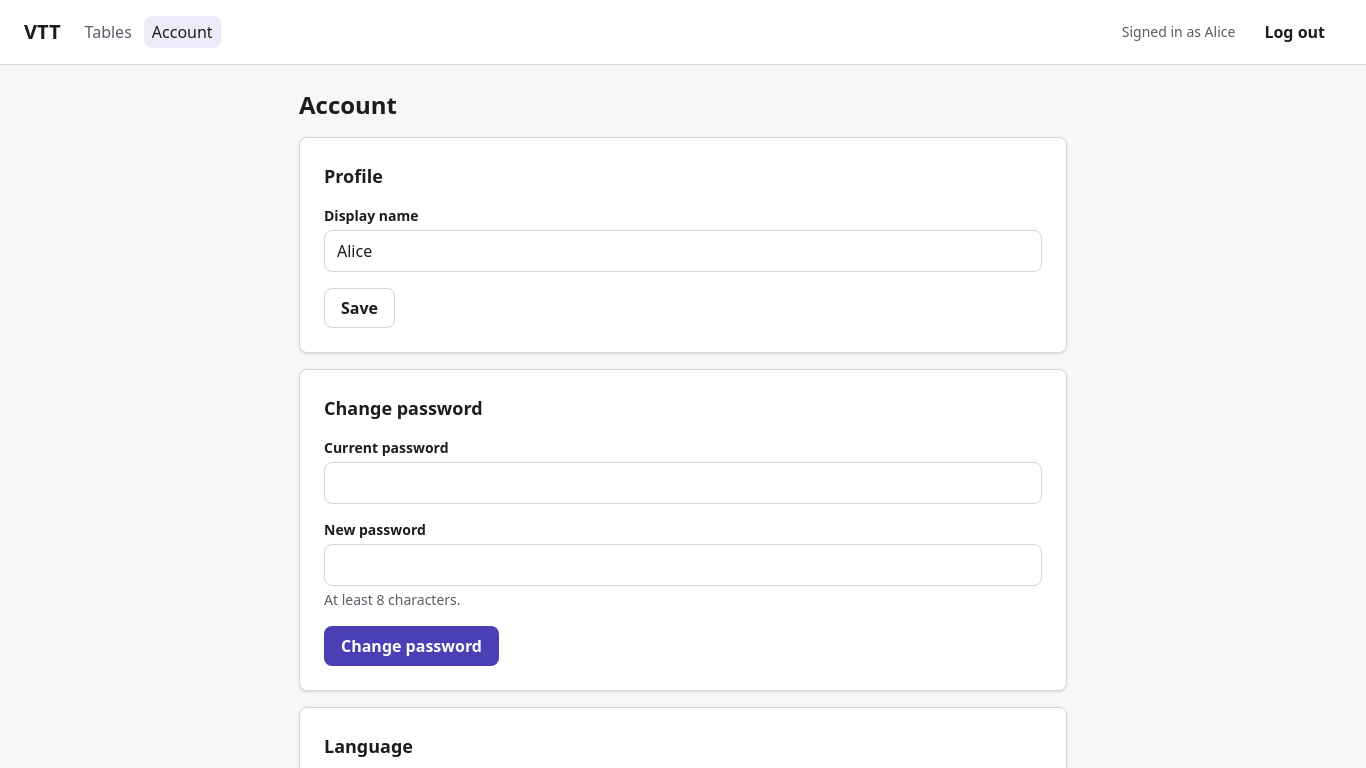
Test: account (FR-AUTH-05) › saves the display name
Replace the text in the field labelled "Display name" with "Al": (683, 251) 324,230 -> 1042,272
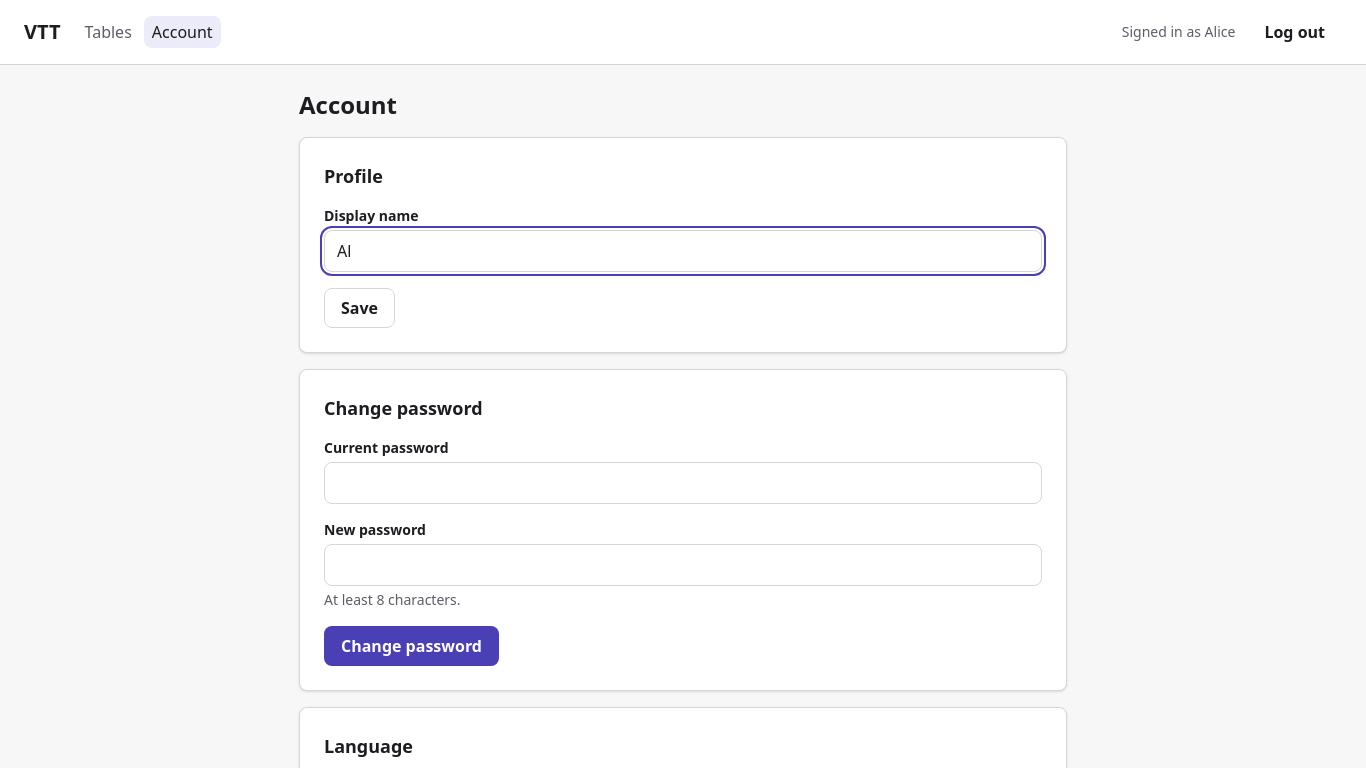
Click the button "Save": (360, 308) 324,288 -> 395,328
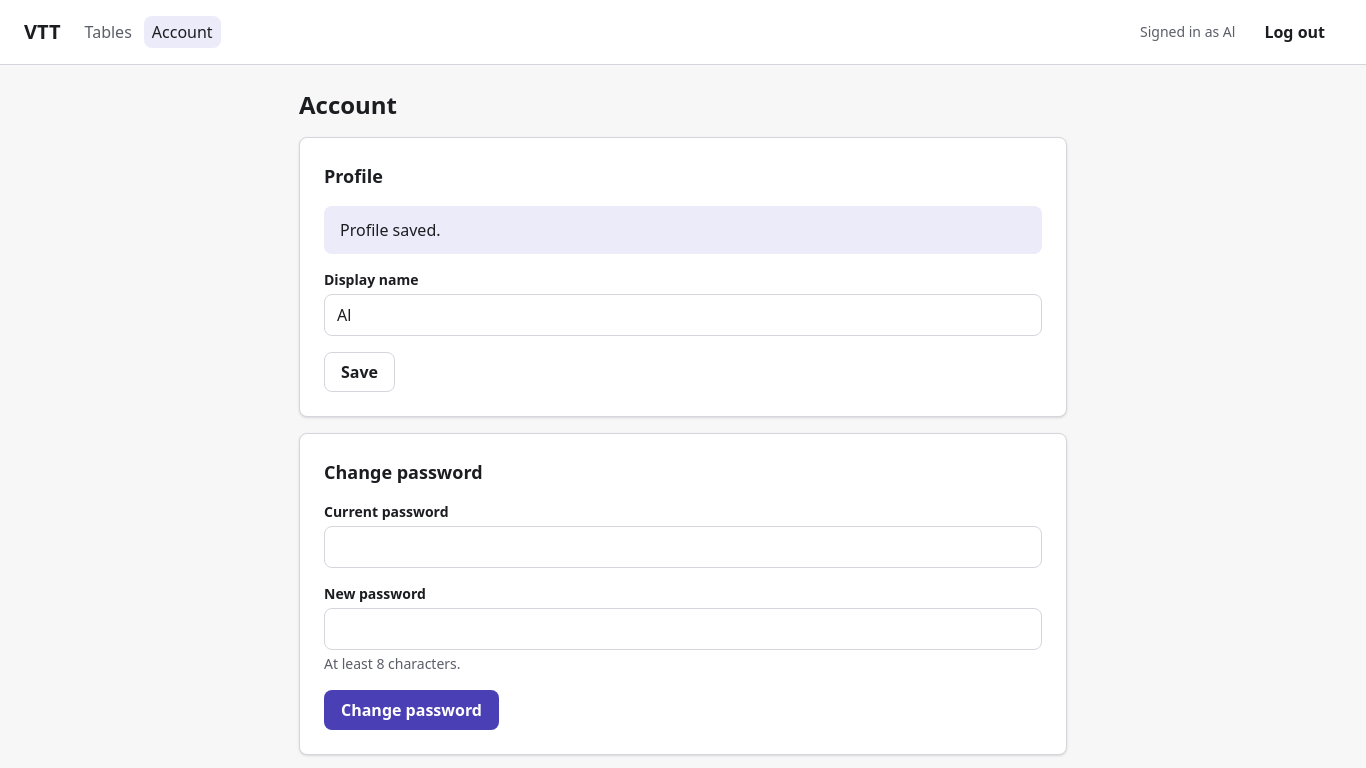
expect the text "Signed in as Al" is shown: met, box 1140,22 -> 1235,42
expect the text "Profile saved." is shown: met, box 324,206 -> 1042,254
